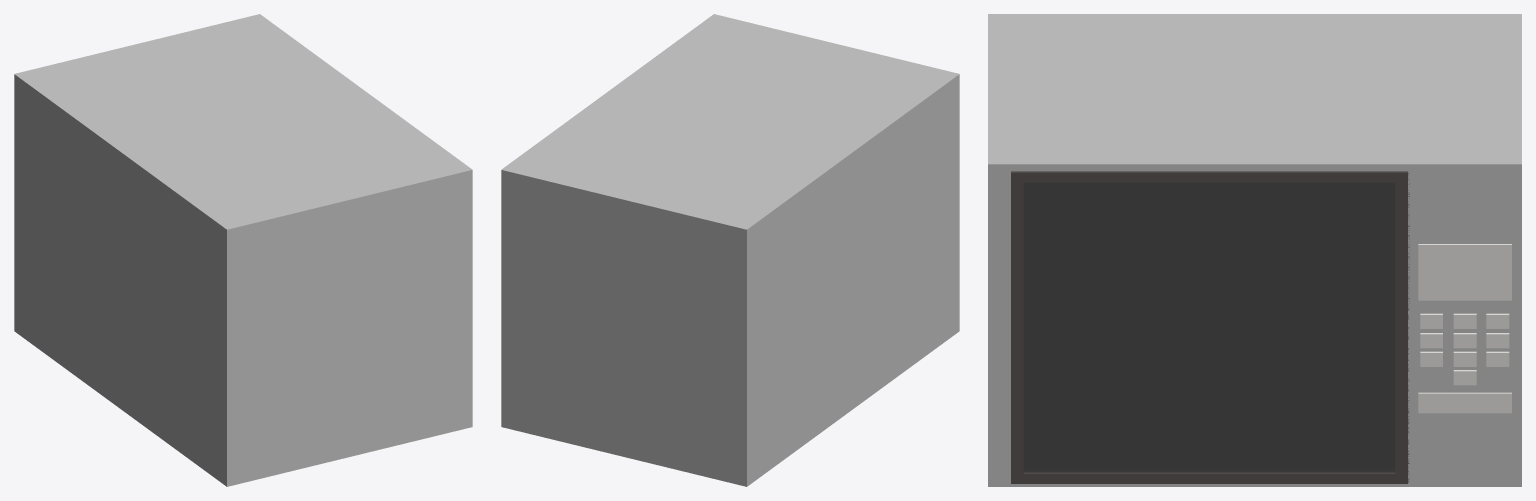
Rendered from Microwave.fbx.
3 views of the same model, side by side, from view 1: azimuth 30°, elevation 25°; view 2: azimuth 150°, elevation 25°; view 3: azimuth 270°, elevation 25° (orthographic). The views are drawn at different scales.
Parts seen in each view (by area): view 1: polySurface186; view 2: polySurface186; view 3: polySurface186.
Boxes of the visible parts, <box> form: polySurface186: <box>14,14,472,486</box>; polySurface186: <box>501,14,959,486</box>; polySurface186: <box>988,14,1521,486</box>.
Size of the model in its own units: 40.33 by 40 by 60.
